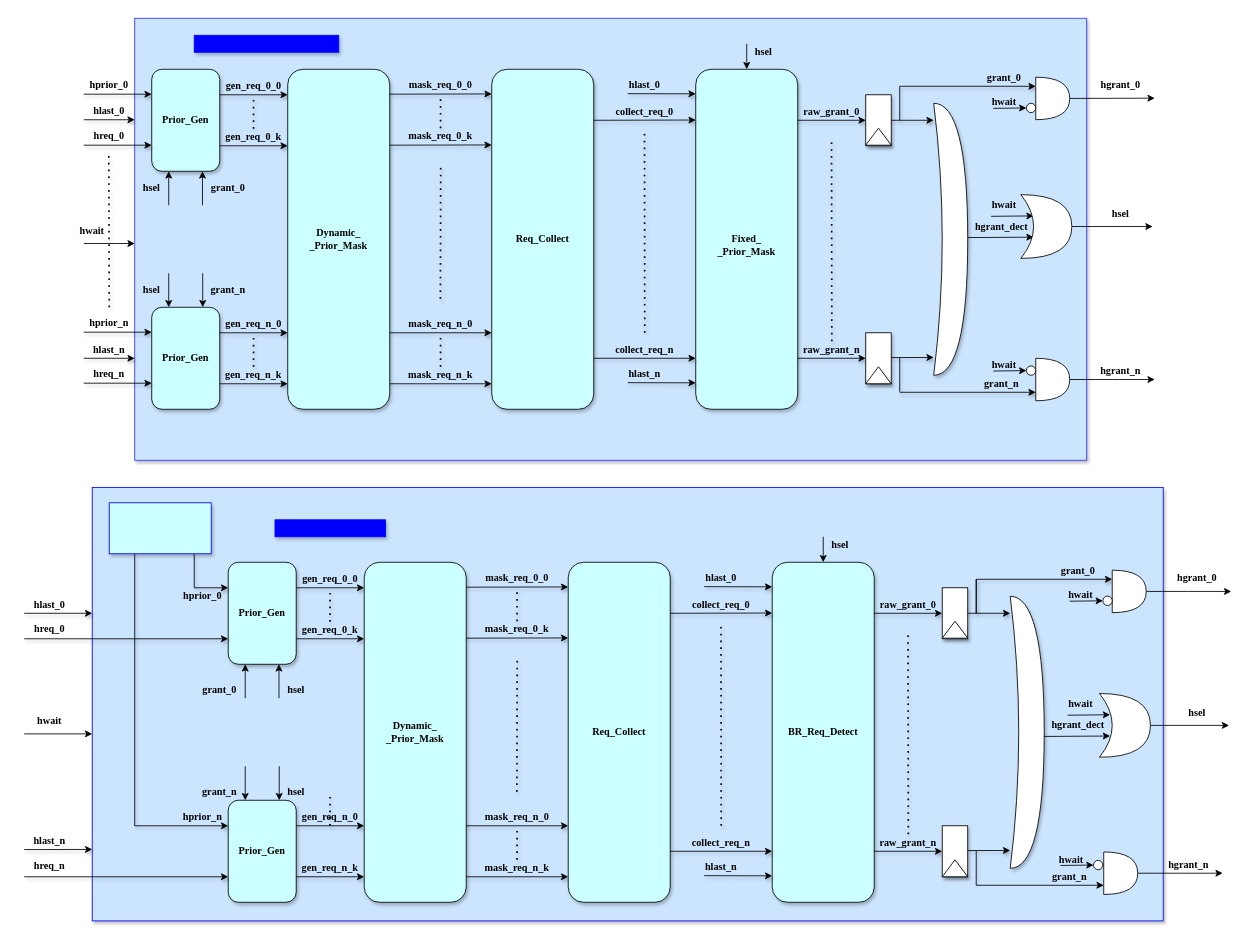
The diagram is 1253 pixels wide and 942 high, and some of its shapes have lost their labels. Each missing label, with the centre of its shape:
"Dynamic Priority Arbiter" goes at (x=267, y=44).
"Prior_Reg" goes at (x=160, y=529).
"Round Robin Arbiter" goes at (x=331, y=529).
